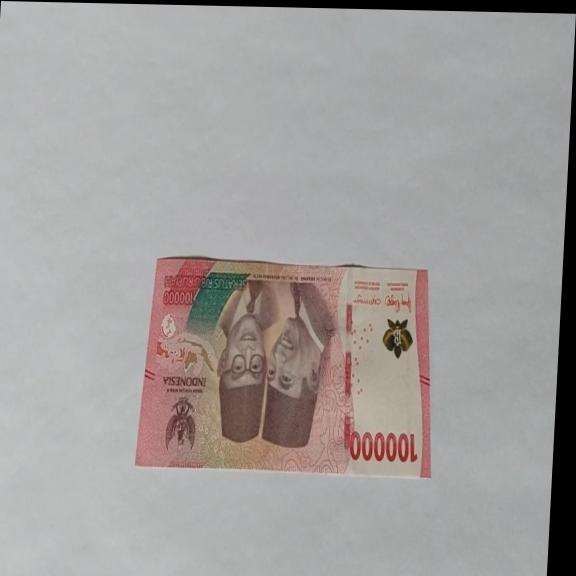Kertas: (133, 255, 442, 480), (345, 427, 419, 466)
